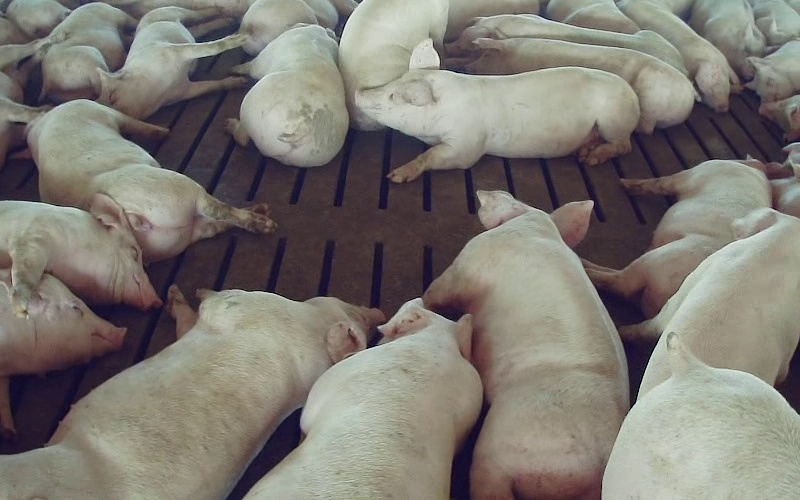pig: (0, 285, 383, 499), (423, 191, 628, 499), (245, 299, 482, 499), (355, 39, 639, 182), (27, 100, 275, 261), (620, 208, 799, 396), (603, 335, 799, 499), (584, 159, 770, 317), (464, 38, 695, 133), (0, 194, 161, 316), (226, 23, 348, 166), (98, 7, 245, 119), (447, 14, 687, 74), (617, 0, 740, 111), (39, 3, 136, 102), (689, 0, 765, 80)
